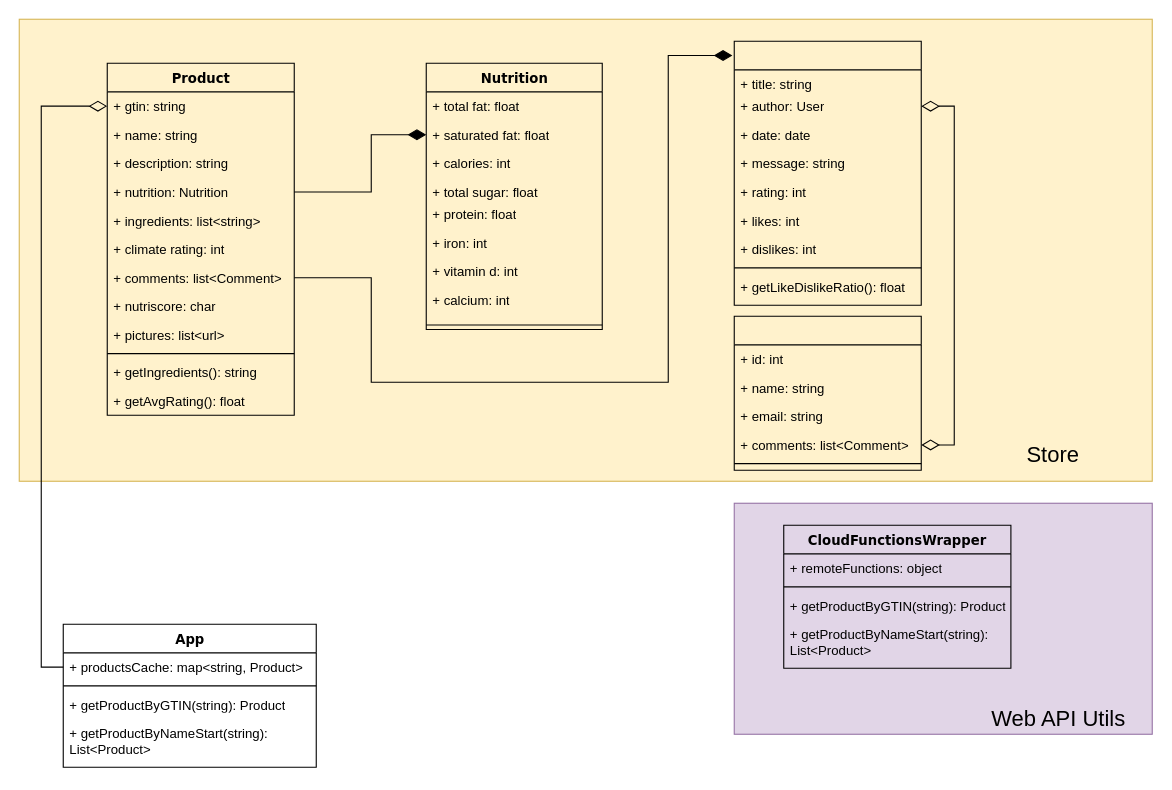
Image size: 1172x790. Some labels were removed from this diagram. Each missing label, with the box of its shape:
Comment: (733, 40, 921, 305)
User: (733, 315, 921, 470)
